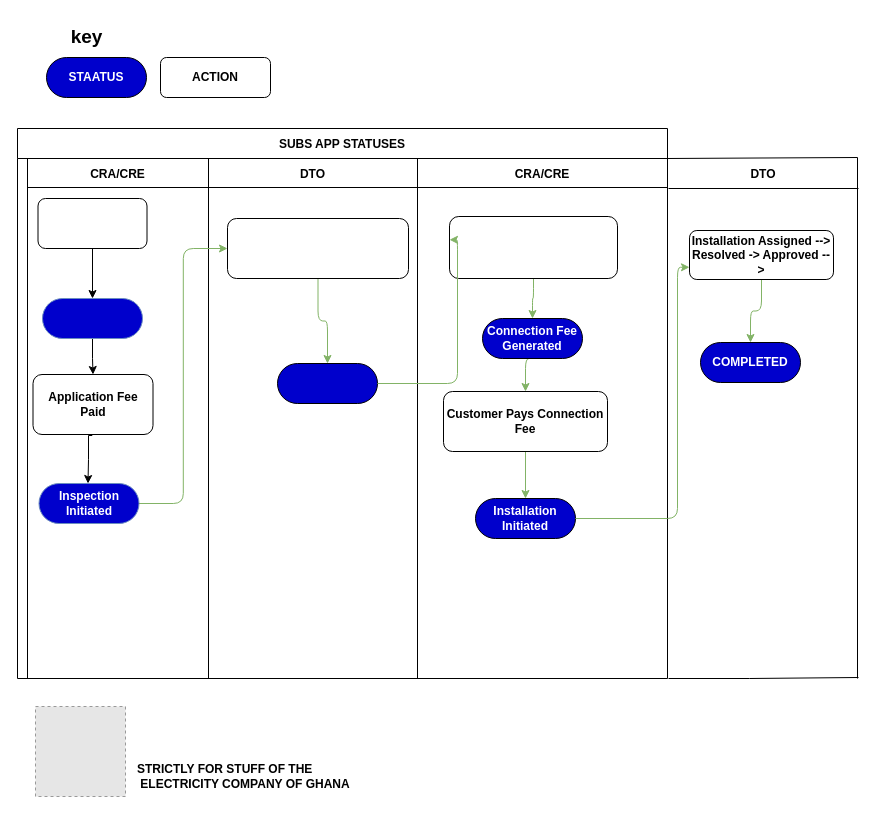
The diagram is 877 pixels wide and 814 high, and some of its shapes have lost their labels. Grey dashed boxes stand in for pictures. The centre of each missing label's shape, as x and y in pixels:
"Application Fee Generated" belongs at [92,318].
"Contract Generated" belongs at [327,383].
"customer Signs Contract with Authorization code" belongs at [533,247].
"Fill Customer Information" belongs at [92,223].
"Inspection Assigned --> Resolved --> Approved -->" belongs at [317,248].
